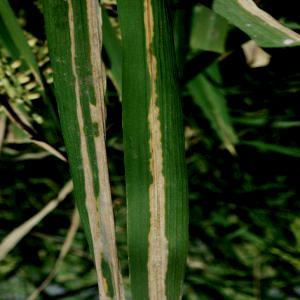2 BacterialBlight: (120, 1, 187, 297), (49, 1, 112, 300)
